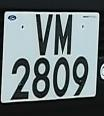0: (51, 55, 71, 98)
2: (8, 53, 32, 104)
8: (30, 53, 53, 103)
9: (70, 54, 91, 97)
M: (53, 10, 74, 57)
V: (31, 11, 55, 59)
